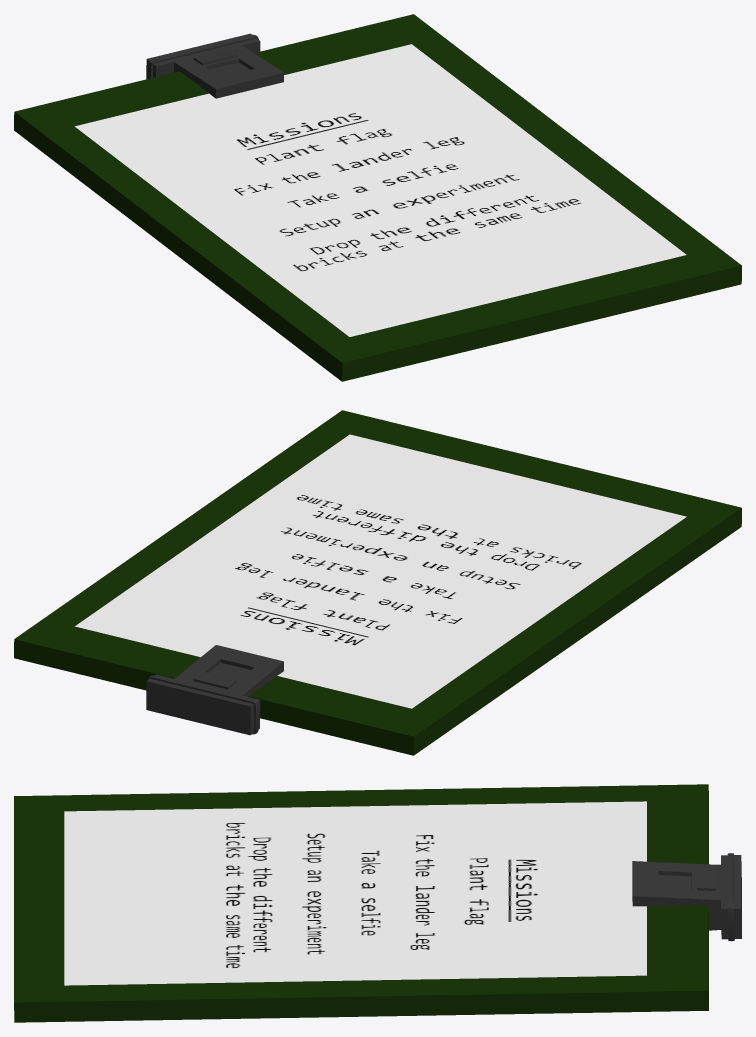
File: FbxClipboard.fbx
The picture shows the model from 3 angles, top to bottom: view 1: azimuth 30°, elevation 25°; view 2: azimuth 150°, elevation 25°; view 3: azimuth 270°, elevation 25°; orthographic projection. The views are drawn at different scales.
Visible parts, largest first — view 1: clipboard; view 2: clipboard; view 3: clipboard.
Part boxes in pixels (left/top/right/bottom): clipboard: left=14, top=14, right=741, bottom=381; clipboard: left=14, top=410, right=741, bottom=755; clipboard: left=14, top=784, right=741, bottom=1022.
Bounding box in the file's own units: 3.49 × 0.3222 × 5.2.
3 materials, 1 textured.
